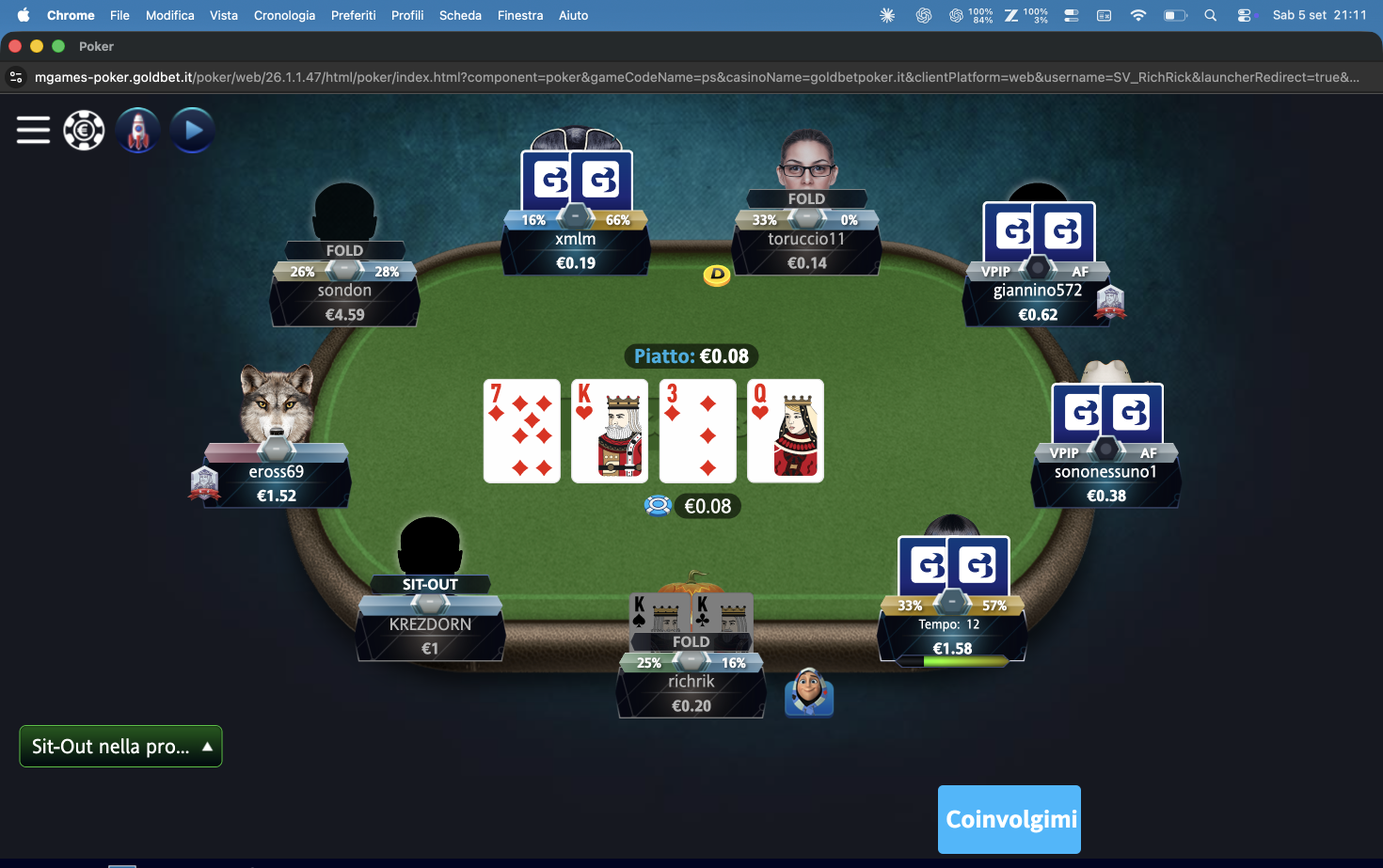3h: (660, 379, 737, 482)
7h: (484, 379, 561, 482)
Kh: (571, 379, 648, 482)
Qh: (747, 379, 823, 482)
